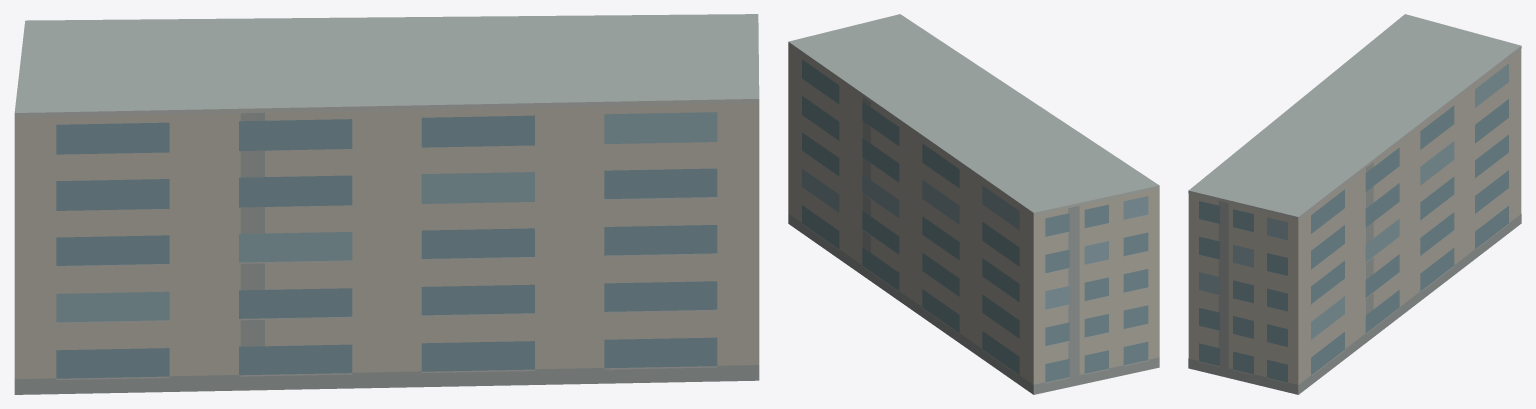
File: survey-upis-32835743.glb
The picture shows the model from 3 angles, left to right: view 1: azimuth 30°, elevation 25°; view 2: azimuth 150°, elevation 25°; view 3: azimuth 270°, elevation 25°; orthographic projection. The views are drawn at different scales.
Visible parts, largest first — view 1: survey-upis-32835743.tmp; view 2: survey-upis-32835743.tmp; view 3: survey-upis-32835743.tmp.
Part boxes in pixels (bbox=[...]): survey-upis-32835743.tmp: bbox=[14, 14, 759, 394]; survey-upis-32835743.tmp: bbox=[788, 14, 1159, 394]; survey-upis-32835743.tmp: bbox=[1188, 14, 1521, 394].
Size of the model in its own units: 37.34 by 15.25 by 25.88.
